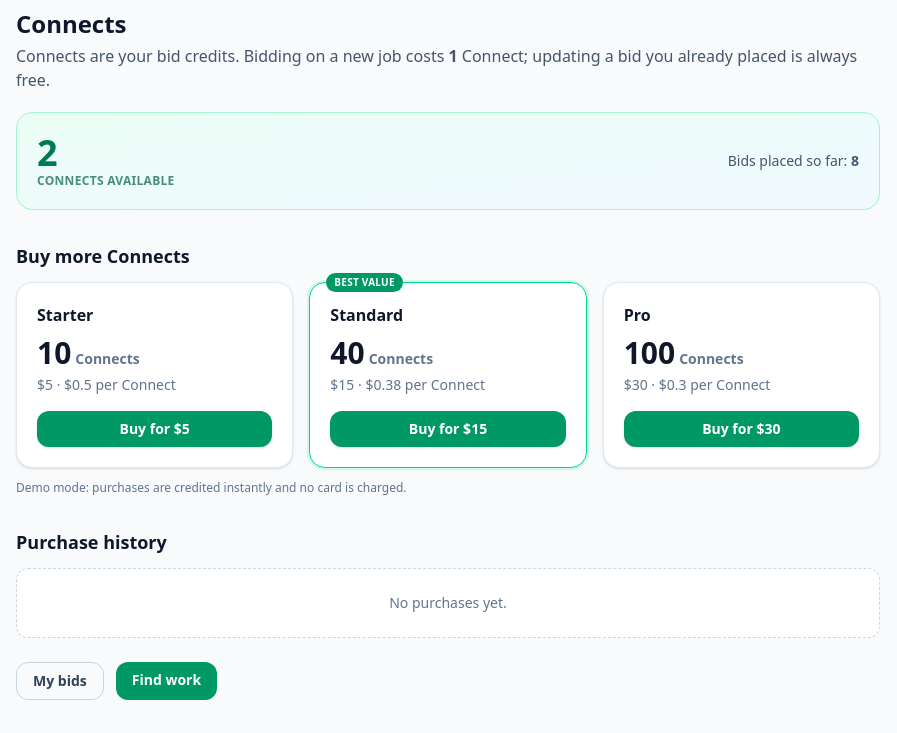
Test: BuyConnects › shows the server error and keeps the old balance on failure
Click the button "Buy for $5".
click(155, 429)  # box [37, 411, 272, 447]
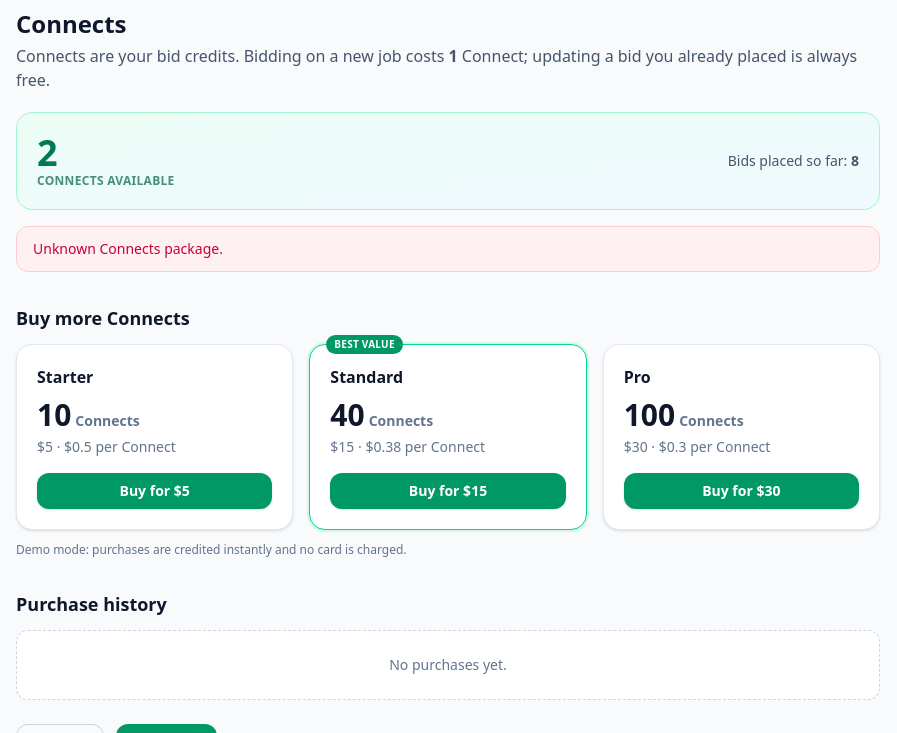
Expected: the text with test id "balance" reads "2", [37, 128, 58, 177]
Result: the text "Unknown Connects package." is shown at [16, 226, 880, 272]
